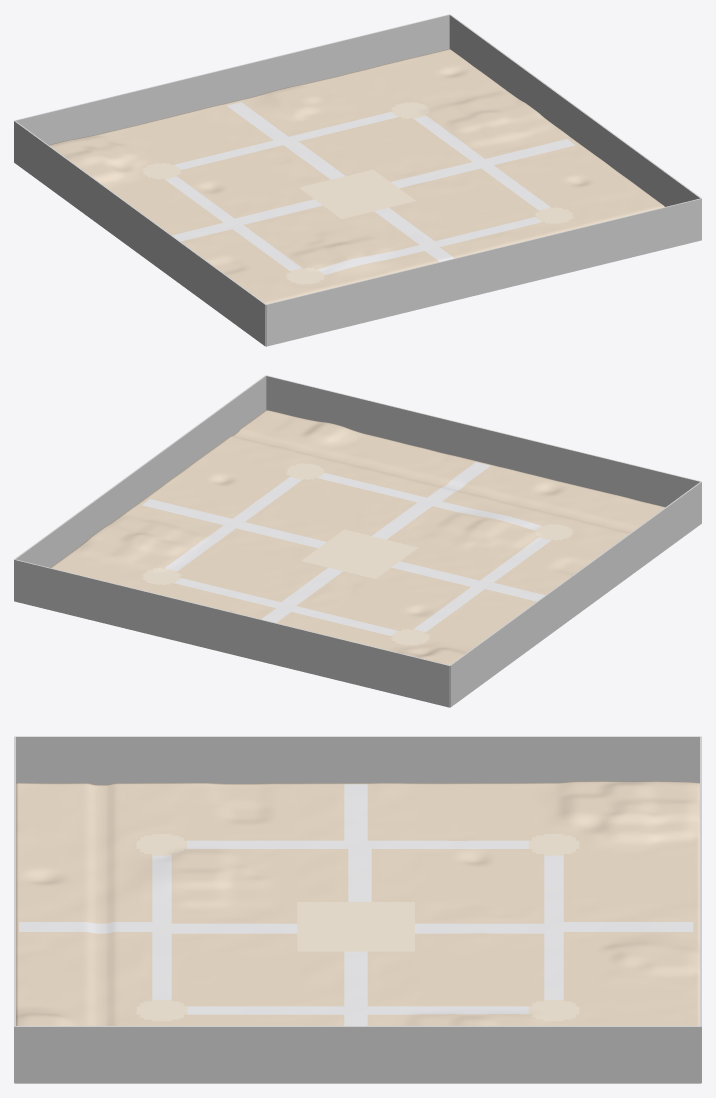
File: GingerbreadVillage_Ground.fbx
3 renders of one model, top to bottom at view 1: azimuth 30°, elevation 25°; view 2: azimuth 150°, elevation 25°; view 3: azimuth 270°, elevation 25°, orthographic. The views are drawn at different scales.
Parts seen in each view (by area): view 1: GIN_Terrain_Walkable, GIN_COL_Boundary_01, GIN_COL_Boundary, GIN_COL_Boundary_03, GIN_COL_Boundary_02; view 2: GIN_Terrain_Walkable, GIN_COL_Boundary, GIN_COL_Boundary_01, GIN_COL_Boundary_03, GIN_COL_Boundary_02; view 3: GIN_Terrain_Walkable, GIN_COL_Boundary_02, GIN_COL_Boundary_03, GIN_COL_Boundary, GIN_COL_Boundary_01.
Part boxes in pixels (x1,y1,x2,y2): GIN_Terrain_Walkable: (49,49,664,304); GIN_COL_Boundary_01: (266,198,701,346); GIN_COL_Boundary: (14,14,449,144); GIN_COL_Boundary_03: (14,121,265,346); GIN_COL_Boundary_02: (449,14,701,239); GIN_Terrain_Walkable: (50,410,664,665); GIN_COL_Boundary: (14,559,449,707); GIN_COL_Boundary_01: (266,375,701,507); GIN_COL_Boundary_03: (450,482,701,707); GIN_COL_Boundary_02: (14,375,266,600); GIN_Terrain_Walkable: (16,781,699,1025); GIN_COL_Boundary_02: (15,1026,700,1083); GIN_COL_Boundary_03: (15,736,700,784); GIN_COL_Boundary: (700,736,701,1083); GIN_COL_Boundary_01: (14,736,15,1083).
Size of the model in its own units: 351 by 32 by 351.
